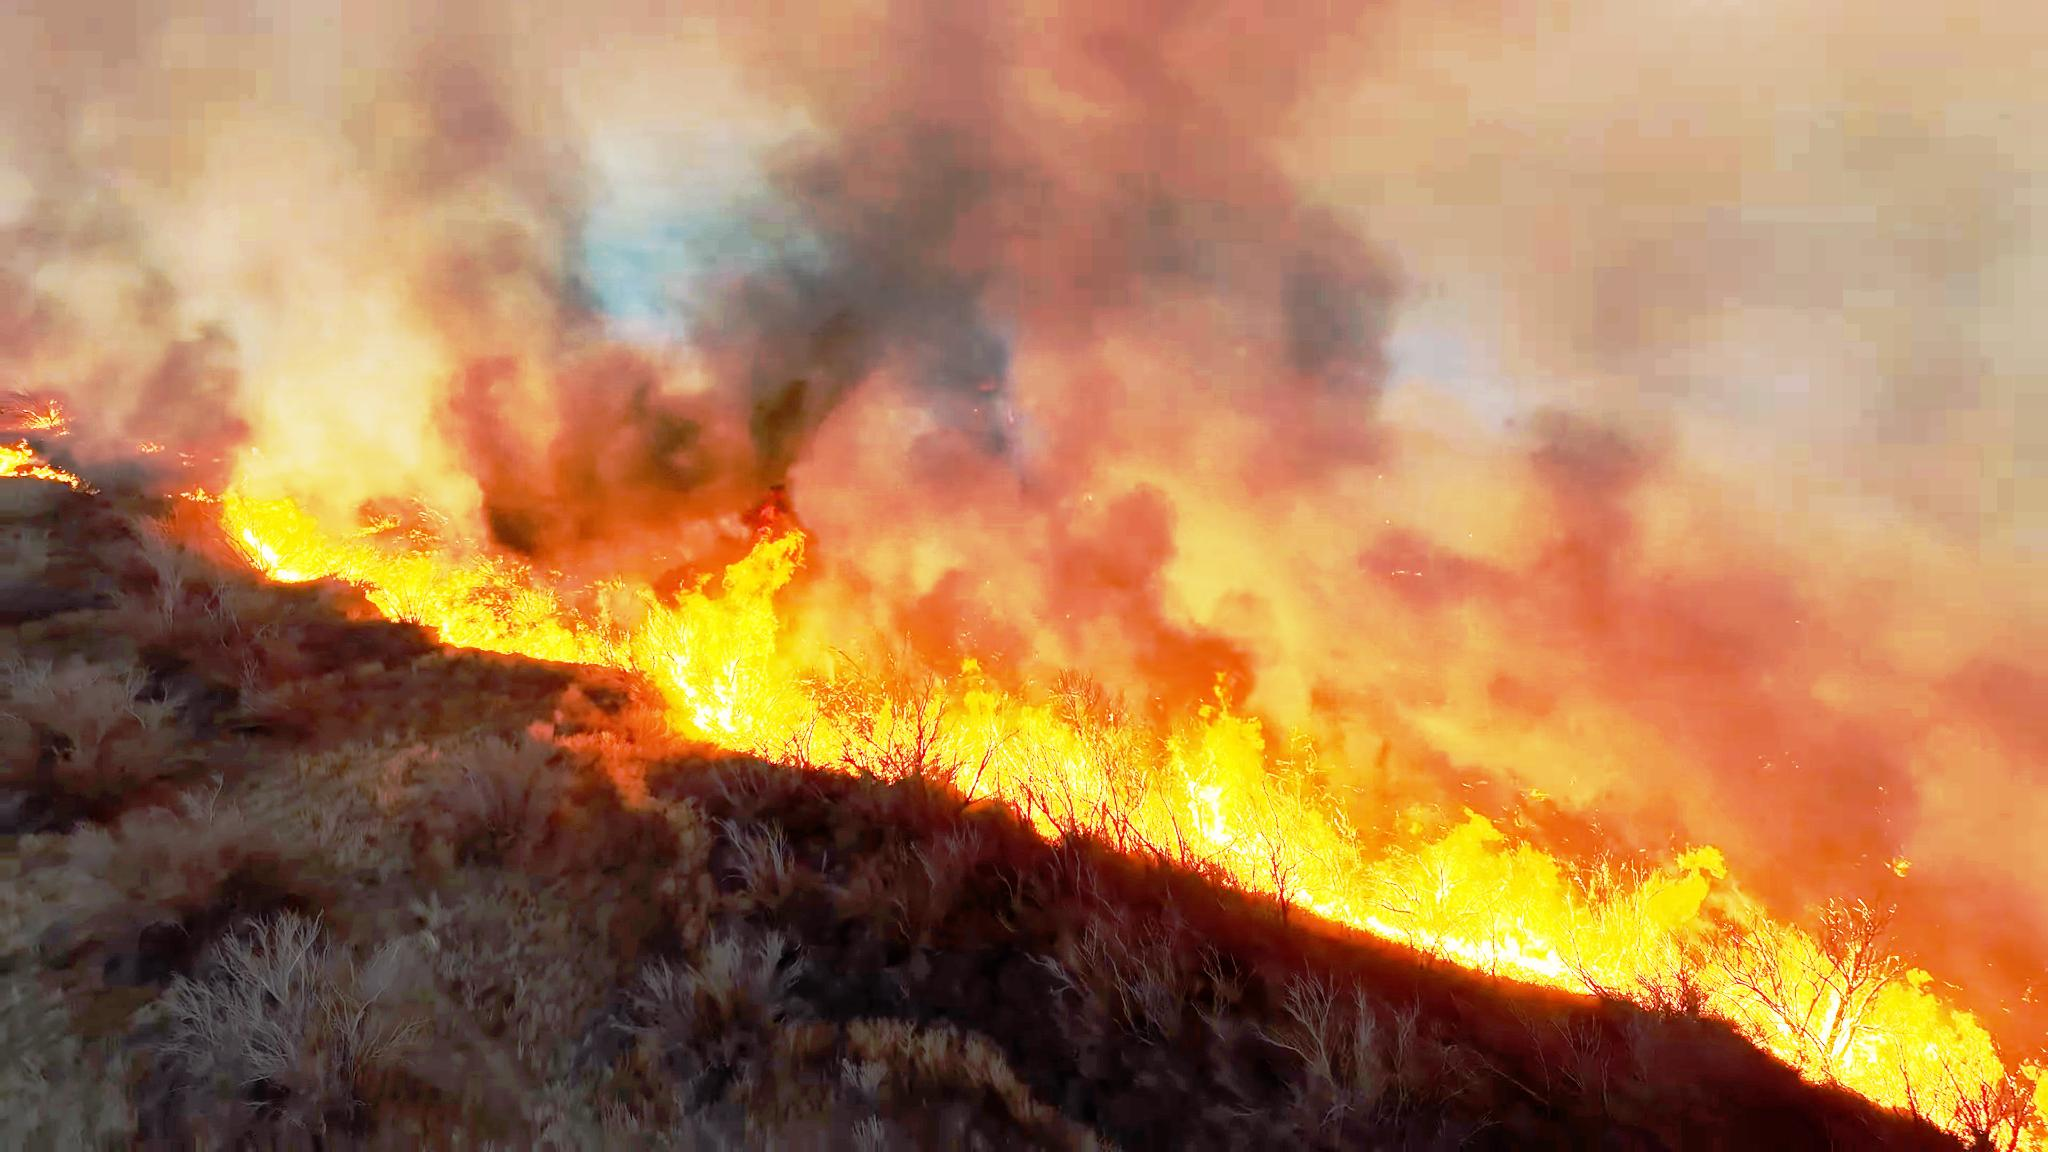fire: (816, 671, 1280, 855), (1269, 820, 1699, 993), (527, 502, 824, 743), (219, 478, 525, 651), (1715, 955, 2003, 1106)
smoke: (526, 0, 1197, 497)
